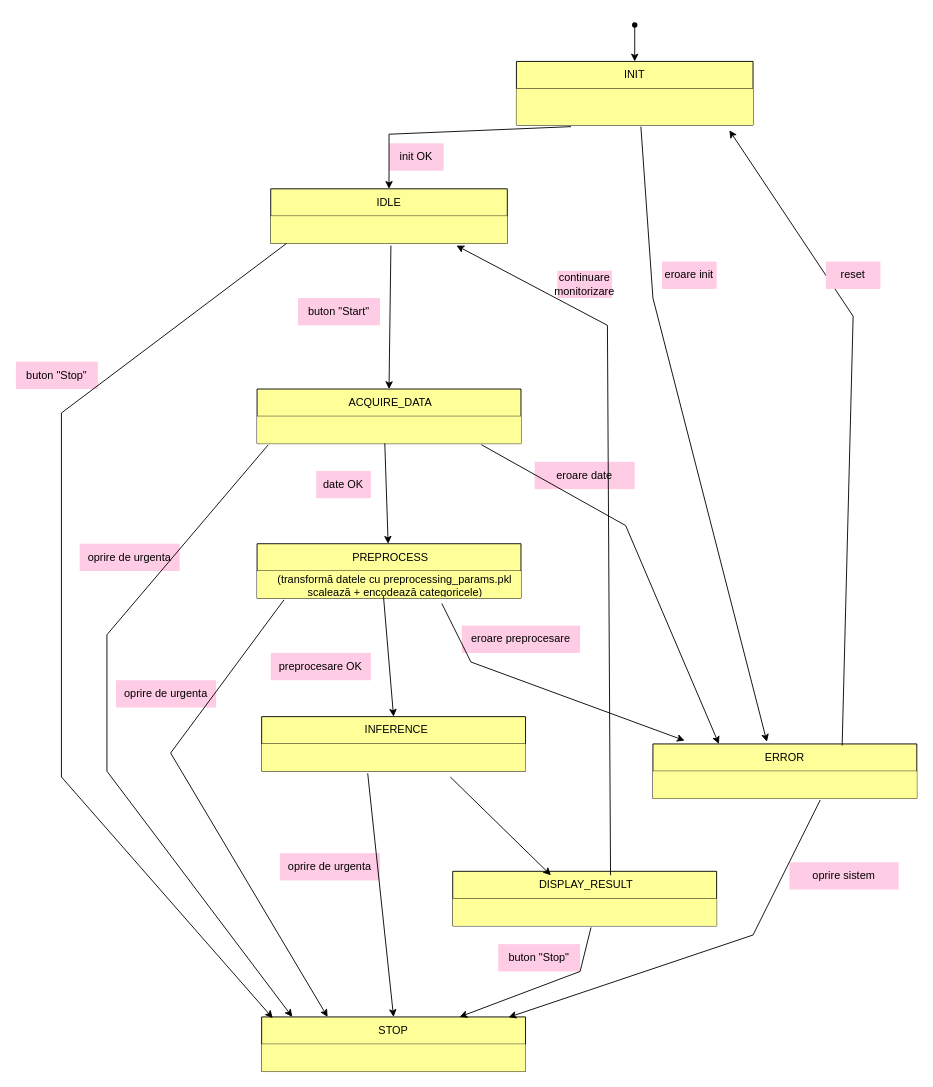
Some shapes in this 933 by 1087 pixel diagram are drawn without their labels. Here are the shapes that lost their labels. From the top down, the centre of each, then its label:
At (x=634, y=106): "(încarcă model RN, verifică fișiere, încarcă preprocessor, pregătește UI)".
At (x=388, y=229): "(utilizatorul introduce date / așteaptă START)".
At (x=389, y=429): "(colectează input-ul utilizatorului: distanță, vreme, trafic, vehicul etc.)".
At (x=393, y=757): "(rulează modelul RN → estimează timpul de livrare)".
At (x=784, y=784): "(afișează mesaj și permite revenire la INIT)".
At (x=584, y=911): "(afișează timpul estimat, loghează predicția)".
At (x=393, y=1057): "(încetează app)".
